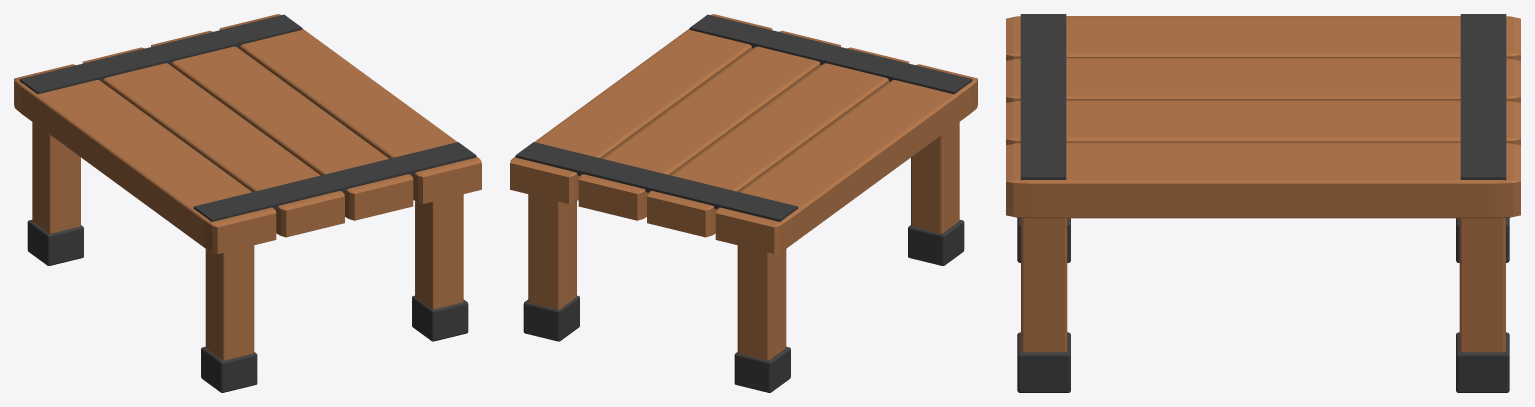
The model's file is picnic-table.fbx.
The picture shows the model from 3 angles, left to right: view 1: azimuth 30°, elevation 25°; view 2: azimuth 150°, elevation 25°; view 3: azimuth 270°, elevation 25°; orthographic projection. The views are drawn at different scales.
Visible parts, largest first — view 1: Picnic-table; view 2: Picnic-table; view 3: Picnic-table.
Part boxes in pixels (x1,y1,x2,y2): Picnic-table: (14,14,481,392); Picnic-table: (510,14,977,392); Picnic-table: (1006,14,1520,392).
Size of the model in its own units: 348 by 215 by 453.
